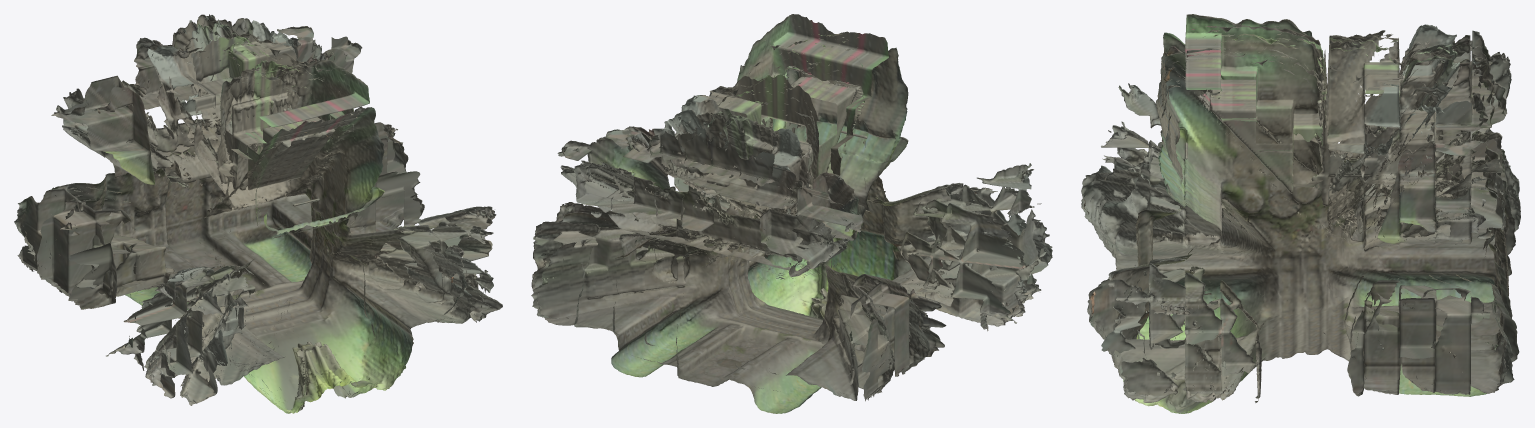
The model's file is collider.glb.
The picture shows the model from 3 angles, left to right: view 1: azimuth 30°, elevation 25°; view 2: azimuth 150°, elevation 25°; view 3: azimuth 270°, elevation 25°; orthographic projection. The views are drawn at different scales.
Parts seen in each view (by area): view 1: world; view 2: world; view 3: world.
Part boxes in pixels (x1,y1,x2,y2): world: (14, 14, 502, 413); world: (531, 14, 1052, 413); world: (1081, 14, 1520, 413).
Size of the model in its own units: 5.88 by 4.62 by 5.11.
